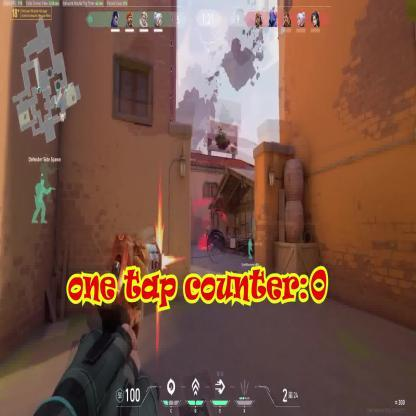enemy: (205, 227, 208, 241)
enemy_head: (206, 227, 208, 230)
